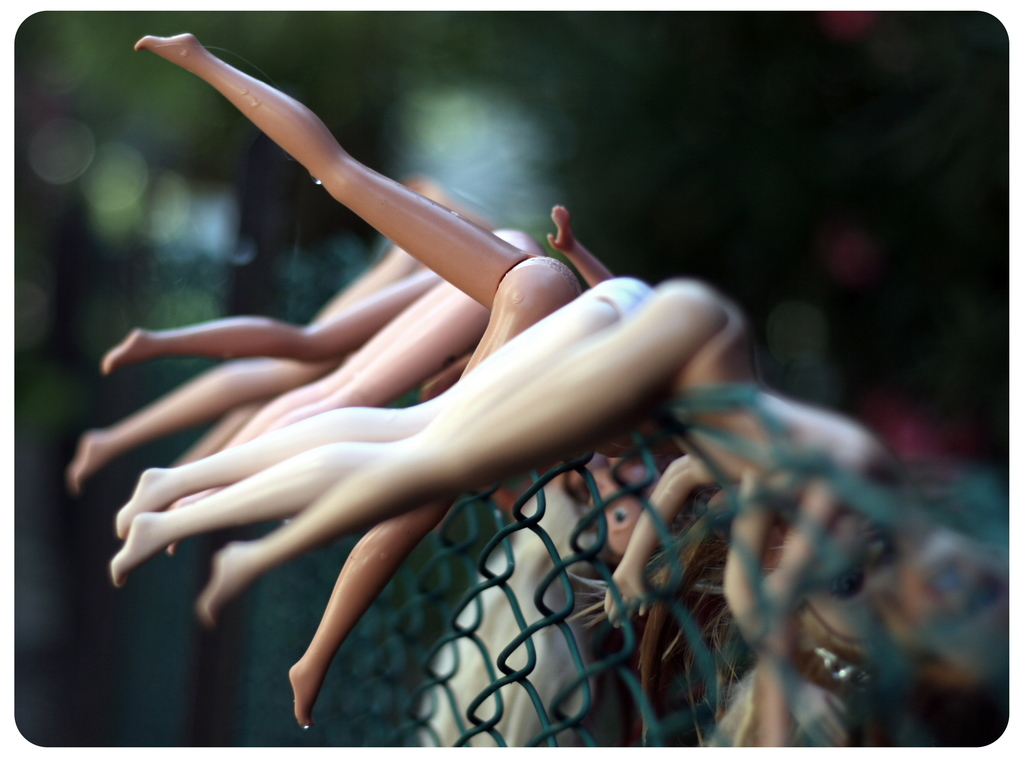Human_hand: (792, 679, 852, 756), (605, 565, 650, 631), (541, 199, 570, 249)
